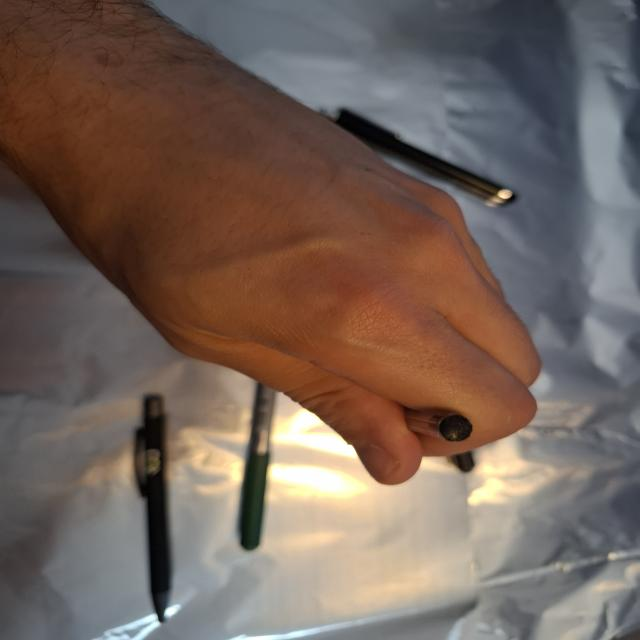glove_off: (8, 27, 546, 487)
